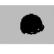correct: (18, 10, 46, 38)
